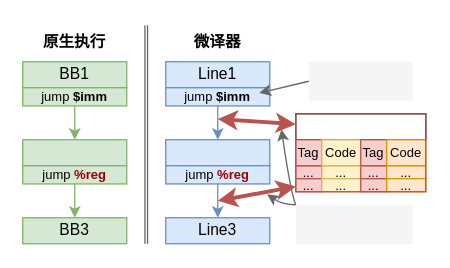
This 450x268 diagram has some shape labels left out. Here are the shapes that lost their labels. From the top down, the centre of each, then its label:
point (360, 80): $imm 保持不变
point (360, 126): 硬件翻译缓存
point (74, 152): BB2
point (217, 152): Line2
point (353, 223): 没有上下文切换，硬件一拍取指
